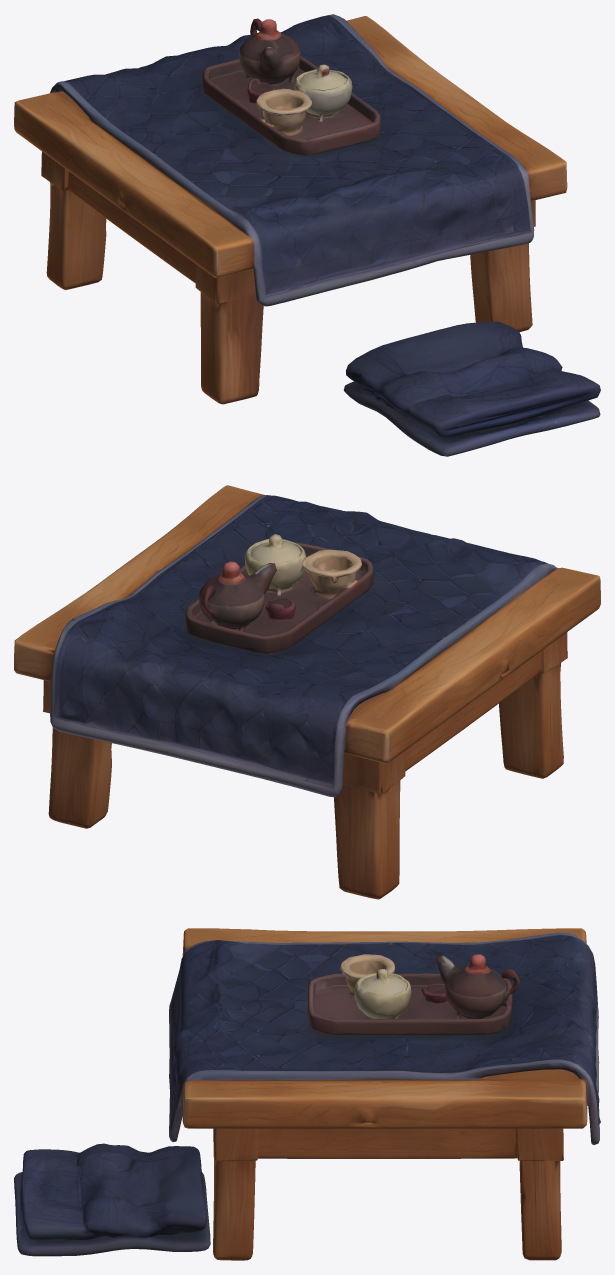
Rendered from au_furn_kotatsu_table.glb.
3 renders of one model, top to bottom at view 1: azimuth 30°, elevation 25°; view 2: azimuth 150°, elevation 25°; view 3: azimuth 270°, elevation 25°, orthographic. The views are drawn at different scales.
Parts seen in each view (by area): view 1: tripo_node_dbd0ebd6-c91f-40ae-ade1-55faf687dc0b; view 2: tripo_node_dbd0ebd6-c91f-40ae-ade1-55faf687dc0b; view 3: tripo_node_dbd0ebd6-c91f-40ae-ade1-55faf687dc0b.
Boxes of the visible parts, bbox=[...] form: tripo_node_dbd0ebd6-c91f-40ae-ade1-55faf687dc0b: bbox=[14, 14, 600, 456]; tripo_node_dbd0ebd6-c91f-40ae-ade1-55faf687dc0b: bbox=[14, 485, 600, 899]; tripo_node_dbd0ebd6-c91f-40ae-ade1-55faf687dc0b: bbox=[14, 928, 600, 1260].
Bounding box in the file's own units: 0.6614 × 0.45 × 0.9427.
Materials: 1 (1 with a texture image).
